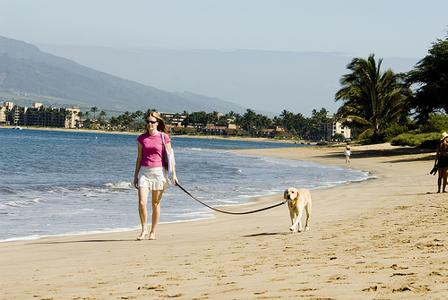person: (135, 111, 179, 239)
